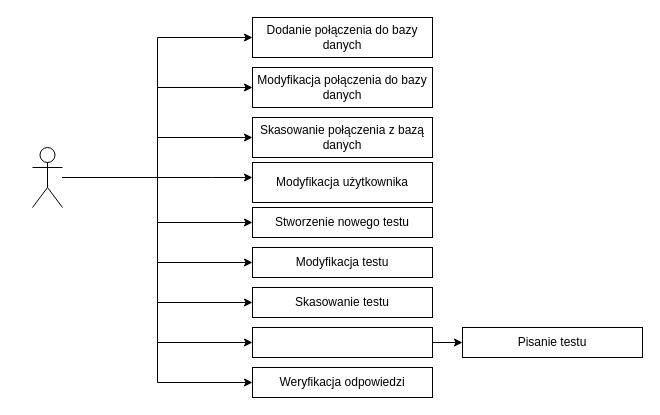
Image size: 660x415. Some labels were removed from this diagram. The shapes that lost their labels are listed below. From the top down, each one's box as (x1, y1, x2, y2) in pixels, then its label:
(32, 146, 62, 208): Użytkownik
(252, 326, 432, 358): Dołączenie do testu
